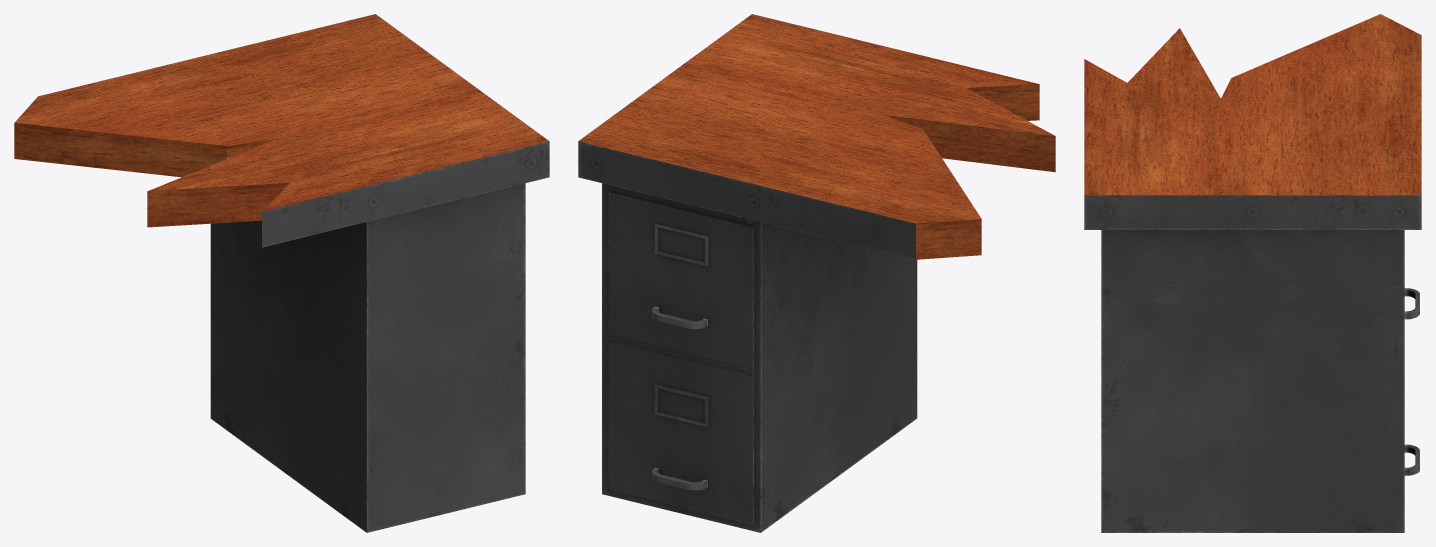
Rendered from DebrisOfficeDesk2.fbx.
3 renders of one model, left to right at view 1: azimuth 30°, elevation 25°; view 2: azimuth 150°, elevation 25°; view 3: azimuth 270°, elevation 25°, orthographic. The views are drawn at different scales.
Visible parts, largest first — view 1: DebrisOfficeDesk2; view 2: DebrisOfficeDesk2; view 3: DebrisOfficeDesk2.
Part boxes in pixels (<box>): DebrisOfficeDesk2: <box>14,14,549,532</box>; DebrisOfficeDesk2: <box>578,14,1055,532</box>; DebrisOfficeDesk2: <box>1084,14,1421,532</box>.
Bounding box in the file's own units: 60.84 × 68.7 × 77.29.
